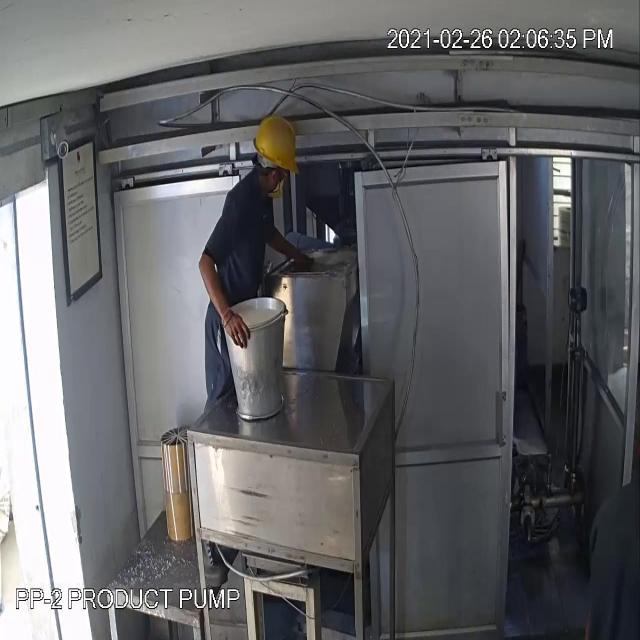helmet: (243, 112, 307, 176)
